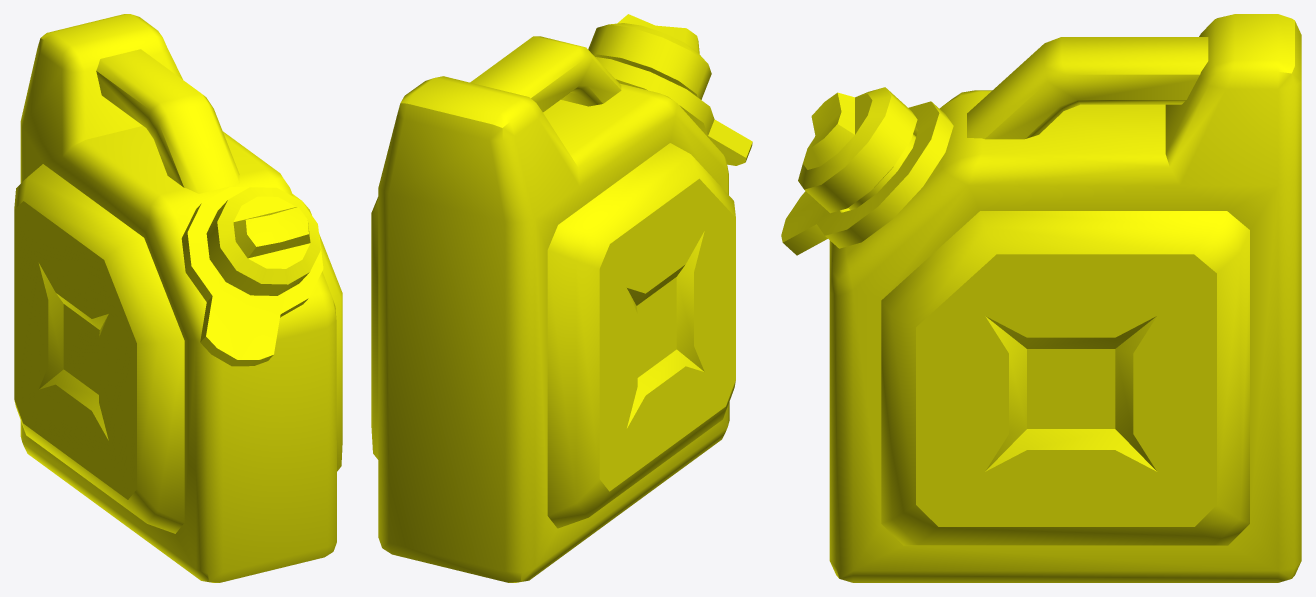
Rendered from kaykit-fuel-c-jerrycan.glb.
3 renders of one model, left to right at view 1: azimuth 30°, elevation 25°; view 2: azimuth 150°, elevation 25°; view 3: azimuth 270°, elevation 25°, orthographic. The views are drawn at different scales.
Visible parts, largest first — view 1: Fuel_C_Jerrycan; view 2: Fuel_C_Jerrycan; view 3: Fuel_C_Jerrycan.
Boxes of the visible parts, x1,y1,x2,y2 form: Fuel_C_Jerrycan: (14, 14, 342, 582); Fuel_C_Jerrycan: (371, 14, 752, 582); Fuel_C_Jerrycan: (781, 14, 1301, 582).
Size of the model in its own units: 0.4001 by 0.78 by 0.7165.
